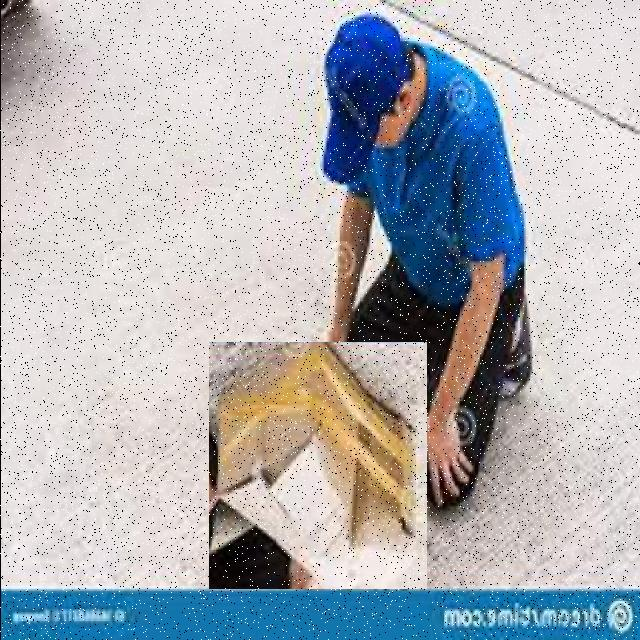defect: (208, 342, 426, 589)
